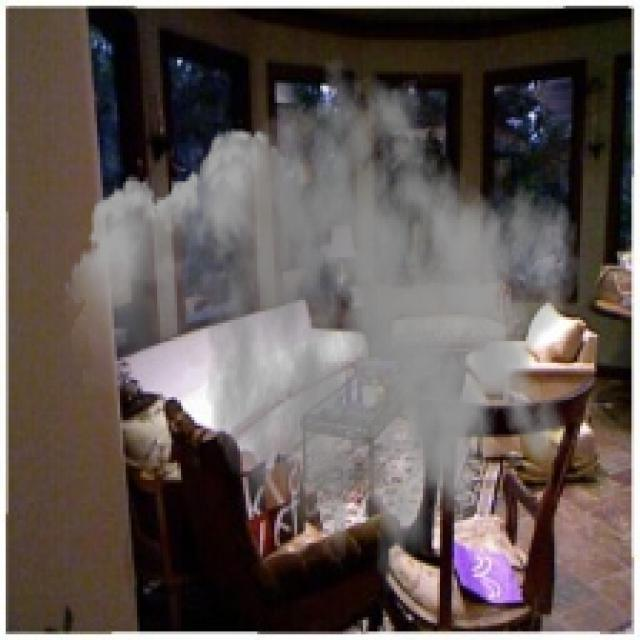Smoke: (63, 57, 583, 620)
